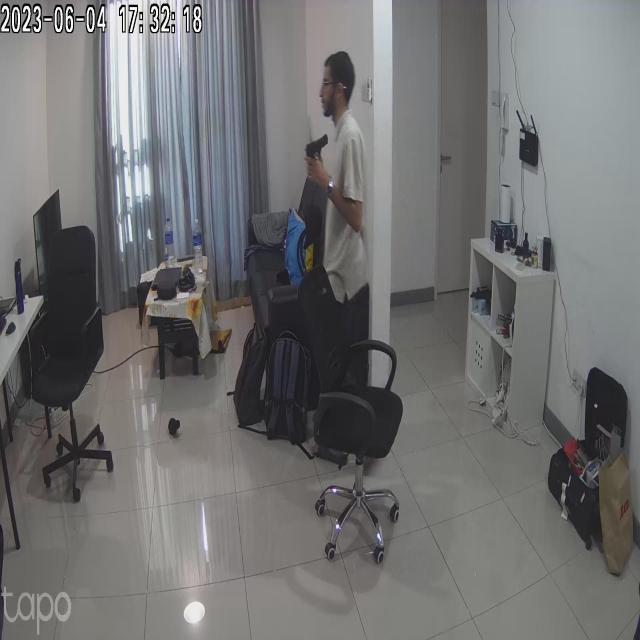Gun: (293, 125, 352, 180)
